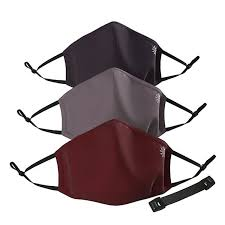FaceMask: (56, 119, 173, 205)
